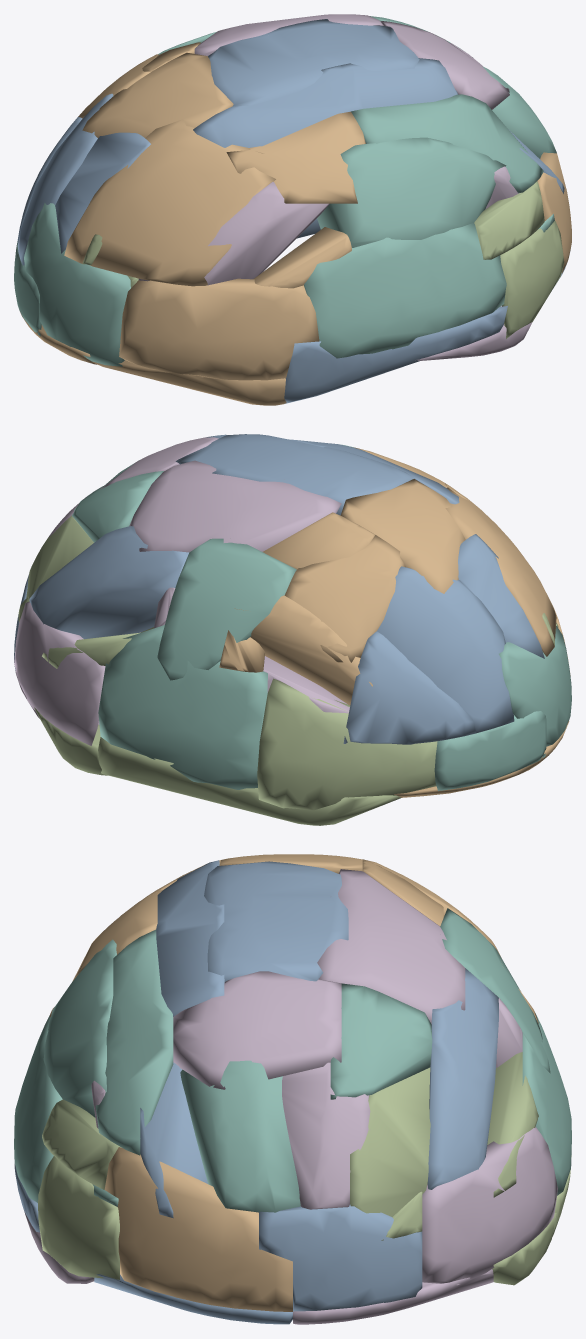
The picture shows the model from 3 angles, top to bottom: view 1: azimuth 30°, elevation 25°; view 2: azimuth 150°, elevation 25°; view 3: azimuth 270°, elevation 25°; orthographic projection. The views are drawn at different scales.
Bounding box in the file's own units: 1.9 × 0.9403 × 1.53.
